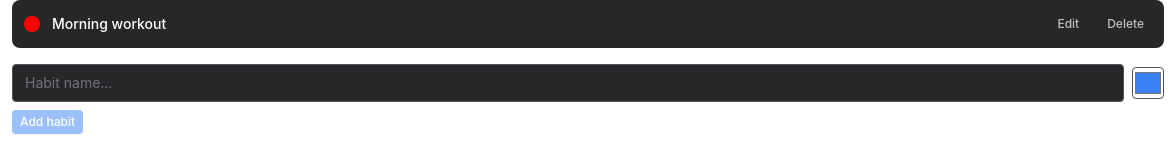
Test: MyHabitsTab › returns to the create form after a successful edit
Step 1. Click the button named "Edit \"Morning workout\"" → {"x": 1068, "y": 24}, box [1049,12,1087,36]
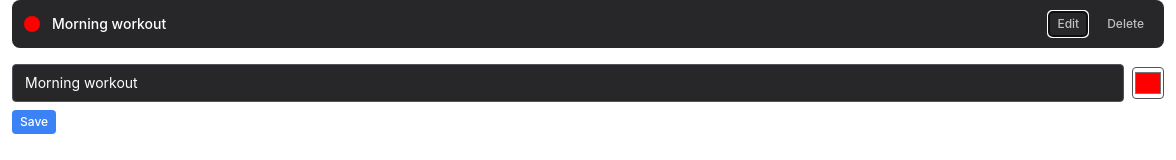
Step 2. Click the button "Save" → {"x": 34, "y": 122}, box [12,110,56,134]
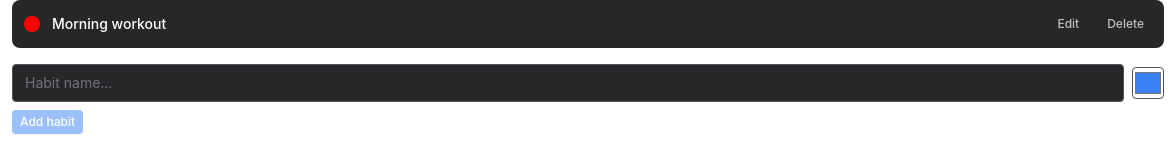
Expected: the button "Add habit" is shown, [12,110,83,134]
